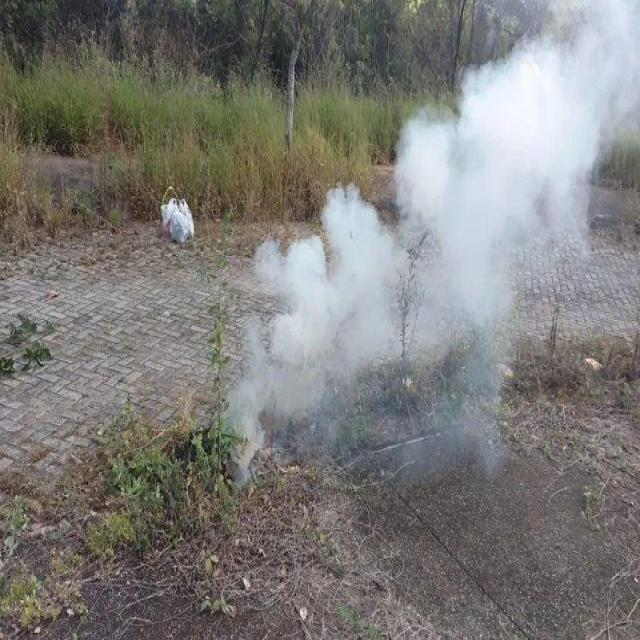smoke: (416, 109, 536, 317), (277, 245, 386, 394)
